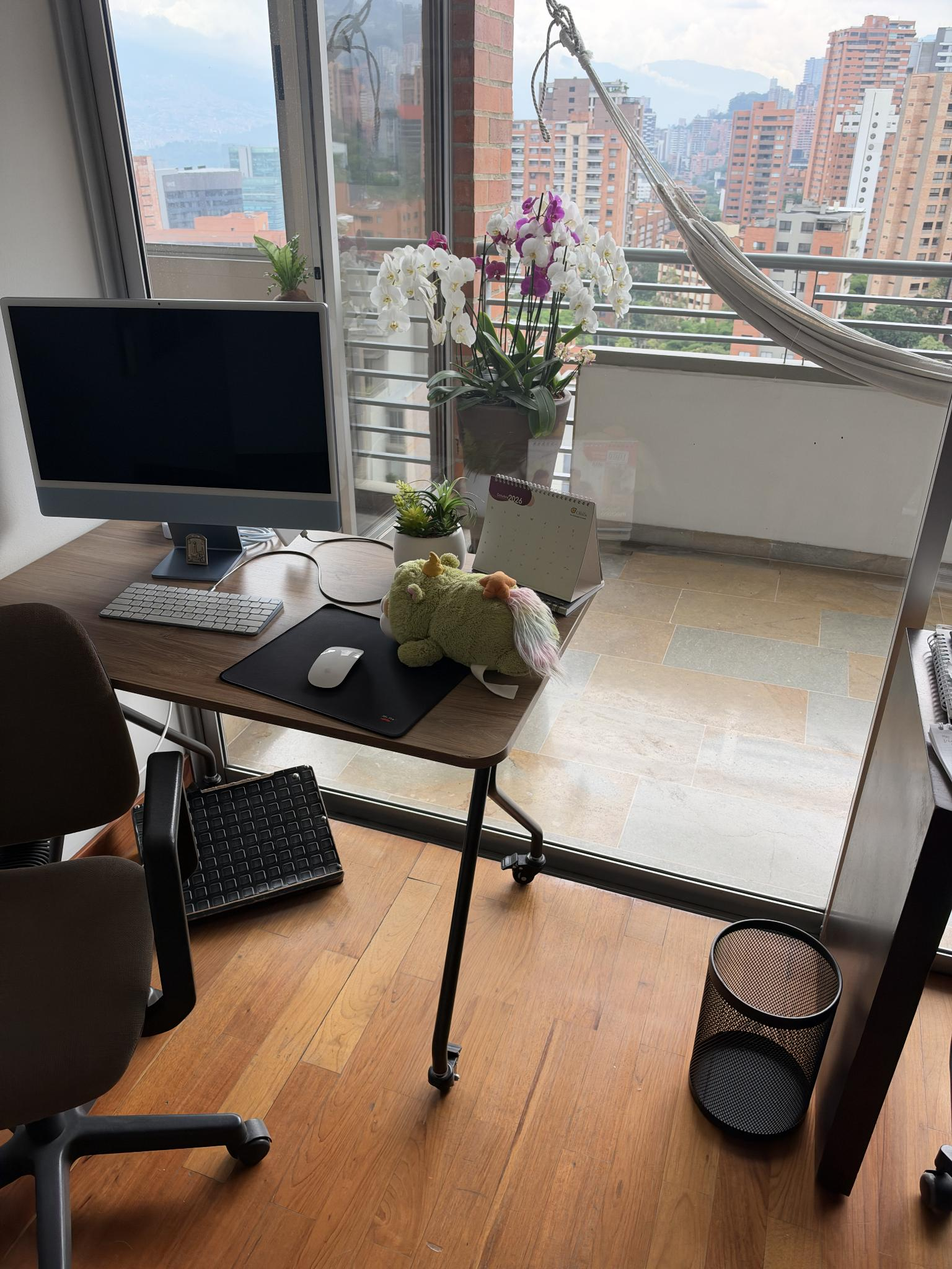peluche_martin: (379, 551, 573, 700)
